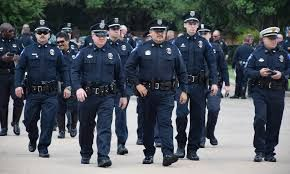uniform: (131, 38, 175, 150), (76, 45, 115, 156), (247, 48, 286, 158), (171, 36, 208, 146), (22, 43, 58, 146), (52, 43, 77, 134), (1, 40, 22, 128), (237, 40, 254, 108)
